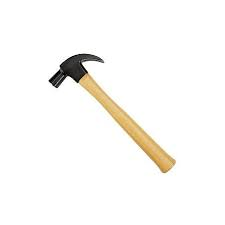martillu: (47, 52, 179, 176)
